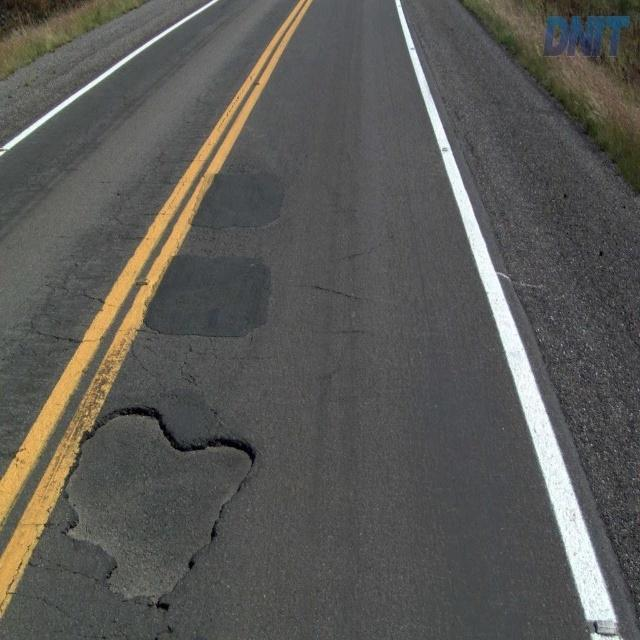pothole: (58, 398, 260, 608)
